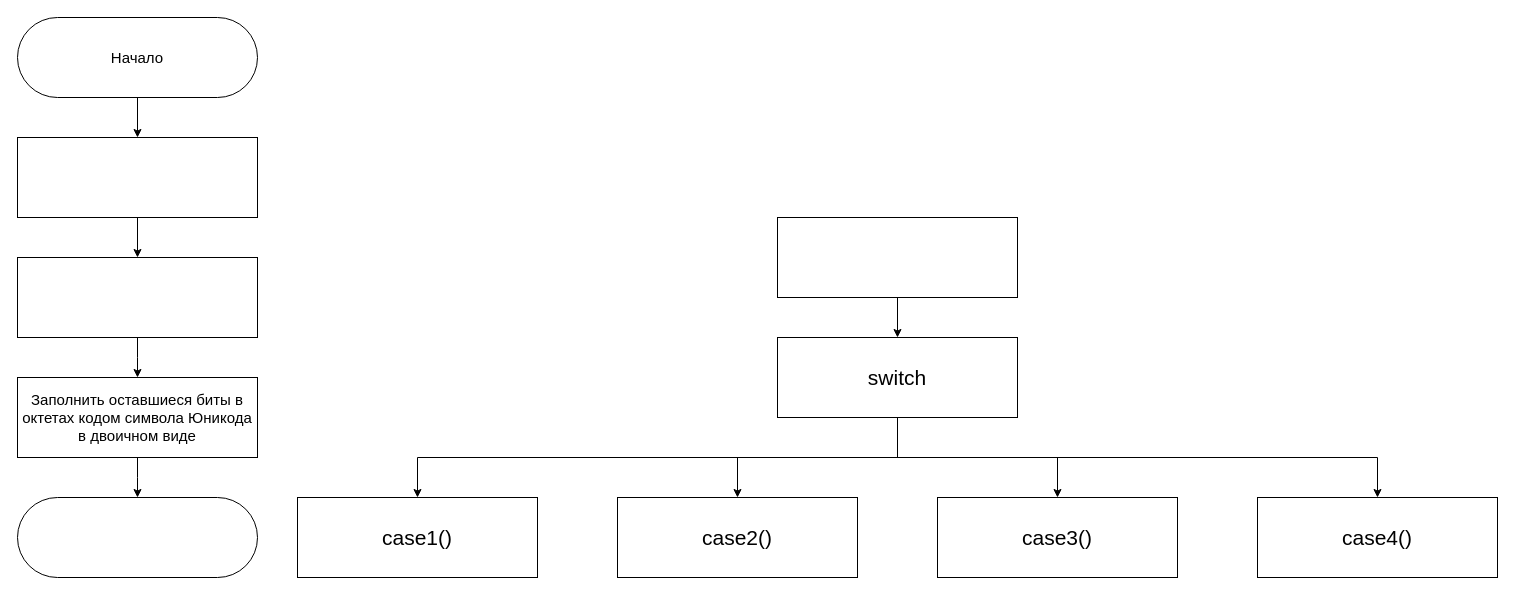
Some shapes in this 1515 by 595 pixel diagram are drawn without their labels. Each missing label, with the centre of its shape:
"main()" goes at point (897, 257).
"Конец" goes at point (137, 537).
"Определить количество октетов" goes at point (137, 177).
"Подготовить старшие биты первого октета" goes at point (137, 297).
